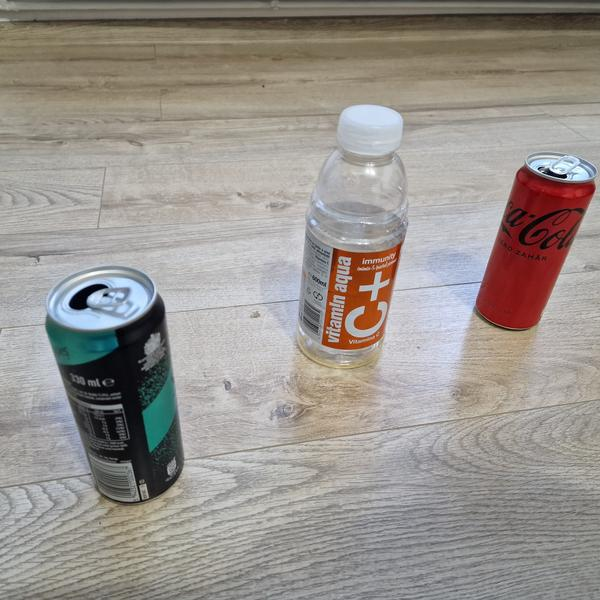can: (32, 251, 210, 519), (463, 140, 600, 341)
plastic_bottle: (283, 96, 424, 376)
